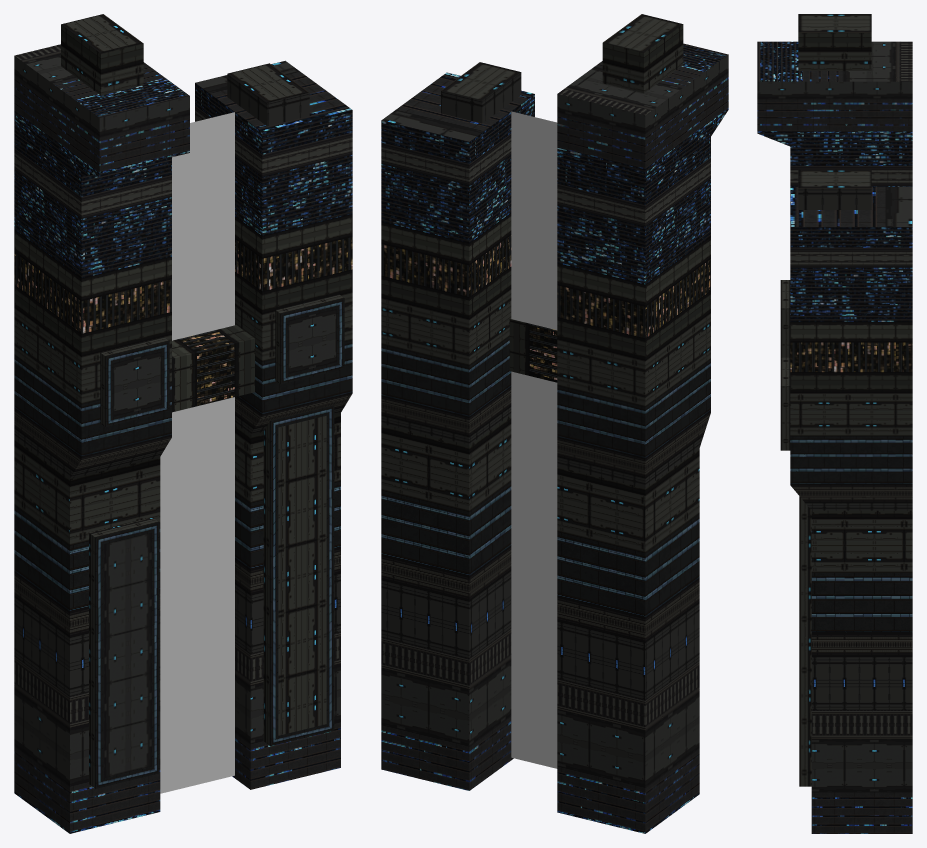
The model's file is Ultra_Addon11.fbx.
3 renders of one model, left to right at view 1: azimuth 30°, elevation 25°; view 2: azimuth 150°, elevation 25°; view 3: azimuth 270°, elevation 25°, orthographic. The views are drawn at different scales.
Visible parts, largest first — view 1: polySurface433; view 2: polySurface433; view 3: polySurface433.
Boxes of the visible parts, box(x1,y1,x2,y2) form: polySurface433: box(14, 14, 352, 833); polySurface433: box(381, 14, 728, 833); polySurface433: box(757, 14, 912, 833).
Bounding box in the file's own units: 15 × 41.24 × 8.17.
